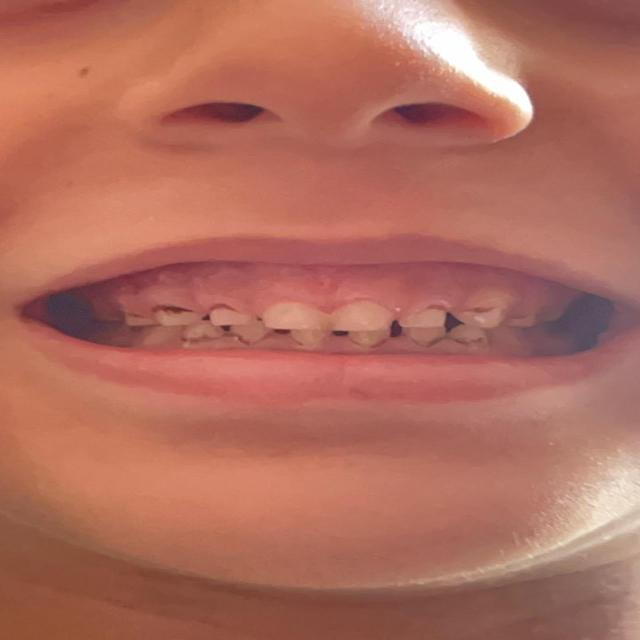tooth: (264, 309, 324, 329), (329, 308, 386, 328), (406, 310, 449, 330), (202, 306, 250, 323), (160, 305, 192, 325), (294, 328, 332, 344), (237, 326, 270, 344), (341, 330, 383, 344), (474, 306, 498, 326), (410, 328, 434, 346), (458, 329, 480, 347), (187, 326, 215, 340)
